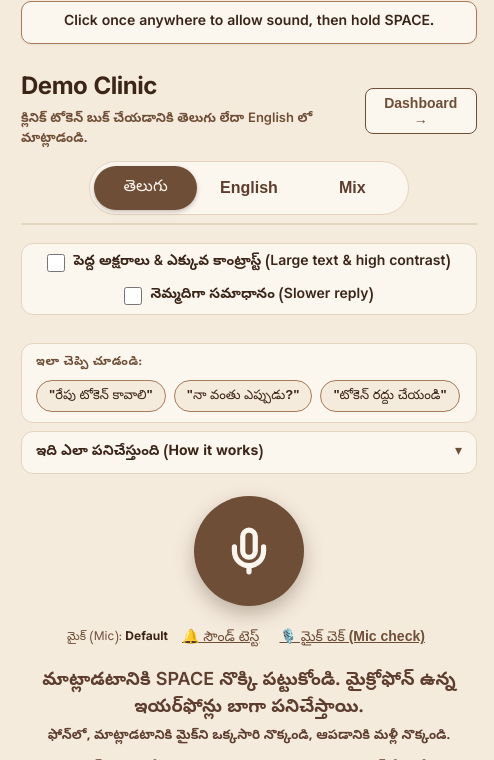
Patient App Component Tests (Vitest + RTL) › 9. Stubbed turn error displays friendly message and action button in plain icon-free style
The image size is (494, 760).
Switch to English
Click the button "English".
click(249, 188)  # box [197,166,301,210]
(page scrolled)
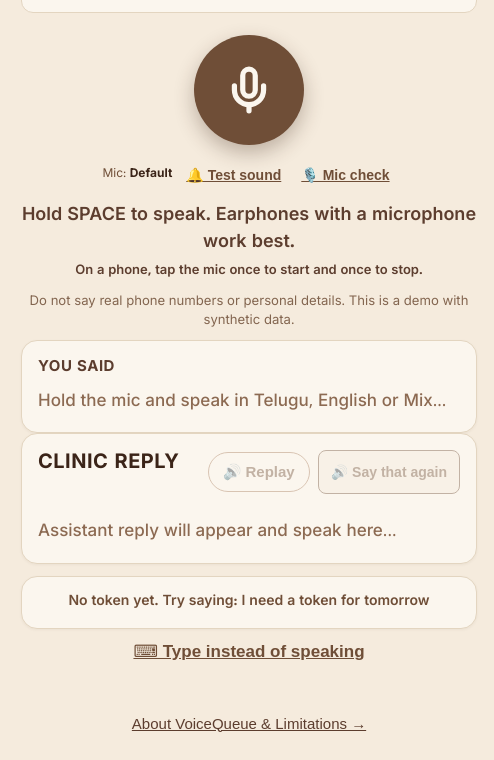
Open typing and submit
Click the button "⌨ Type instead of speaking".
click(249, 651)  # box [125,629,372,673]
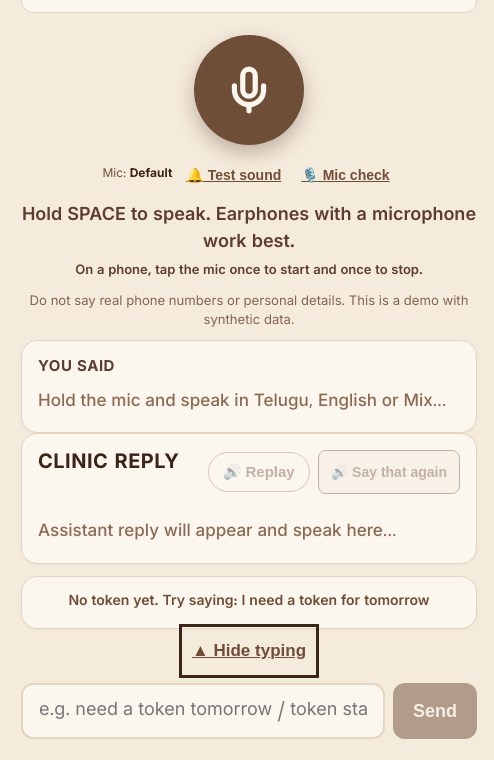
Type "repu token kavali" into the field with placeholder "e.g. need a token tomorrow / token status".
click(203, 711); type("repu token kavali")  # box [21,683,385,739]
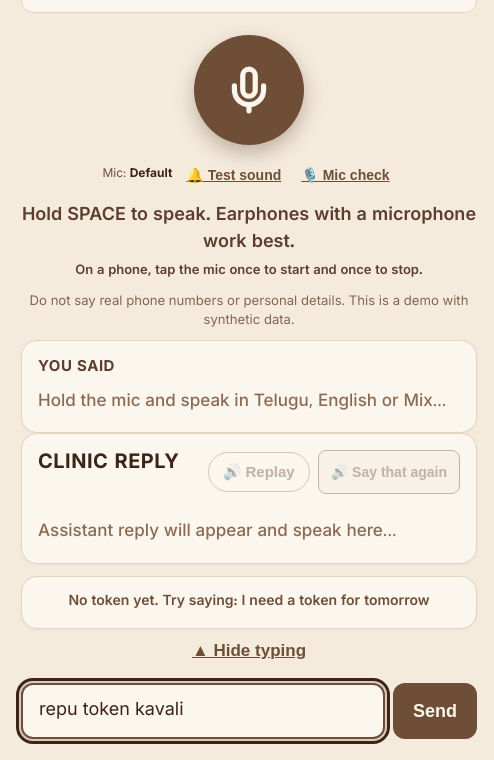
Click the button "Send".
click(435, 711)  # box [393,683,477,739]
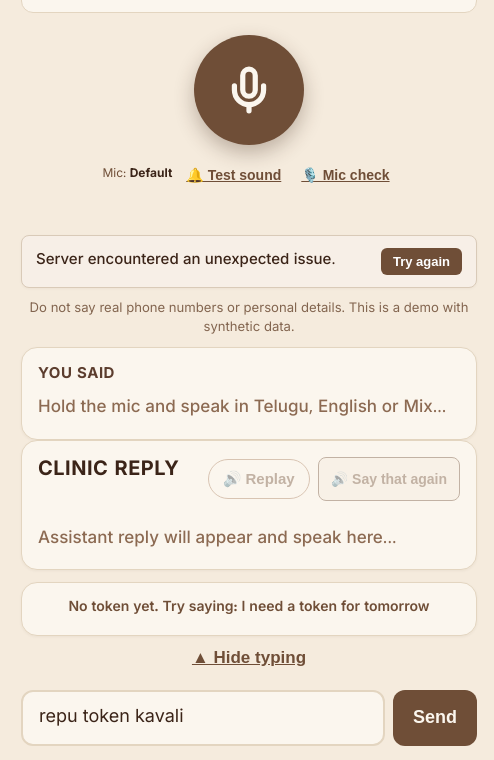
expect the message "Server encountered an unexpected issue. Try again" is shown: met, box [21,234,477,288]
expect the message shows "Server encountered an unexpected issue": met, box [36,250,335,270]
expect the message shows "Try again": met, box [381,248,462,274]
